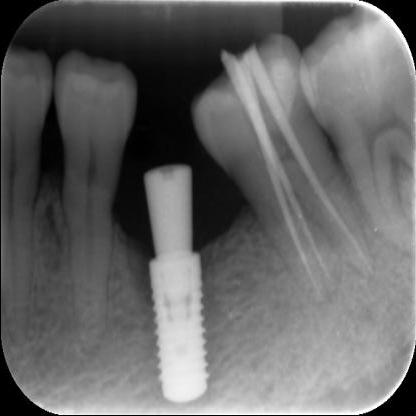ITI: (144, 256, 216, 402)
